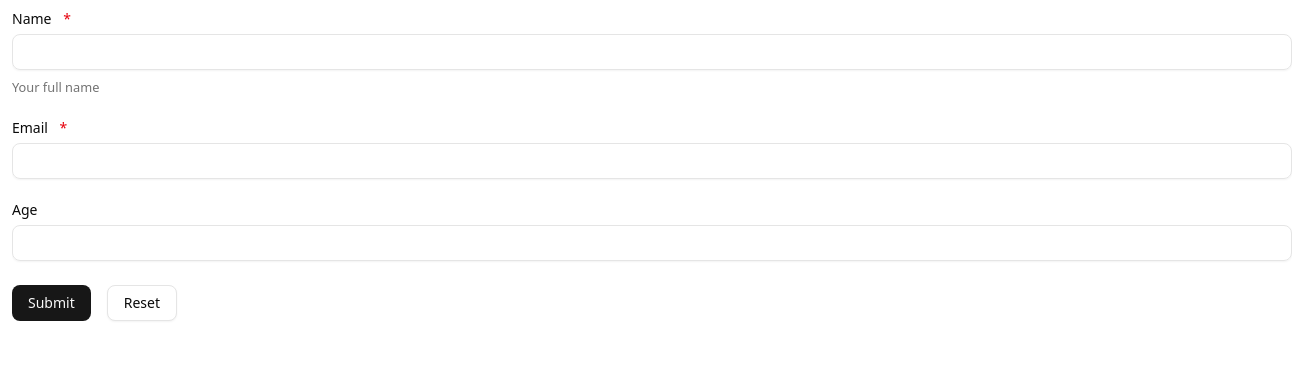
Test case: SchemaForm › Field-Level Validation (onSubmit) › should validate email format on submit
// Fill name (required) and enter clearly invalid email, then submit
Type "John Doe" into the field labelled "Name *" at (652, 52), box [12,34,1292,70]
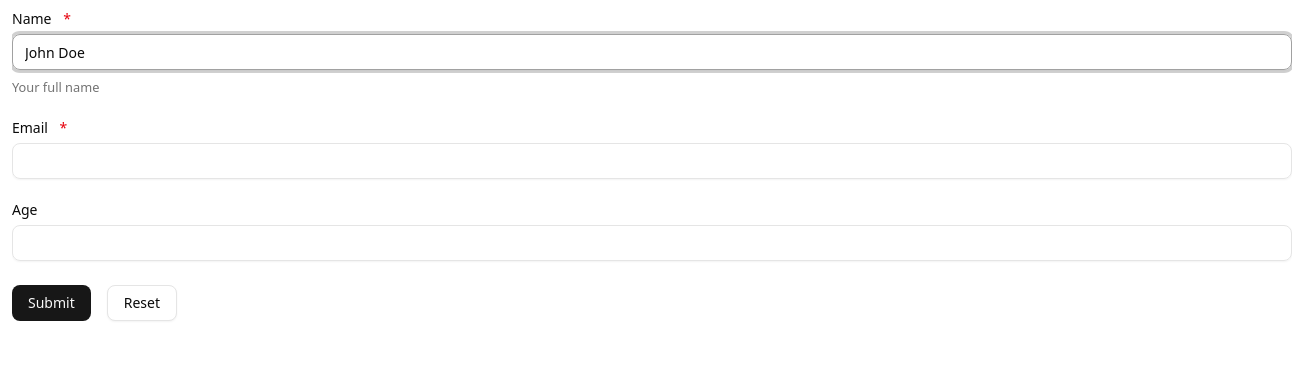
Type "notanemail" into the field labelled "Email *" at (652, 161), box [12,143,1292,179]
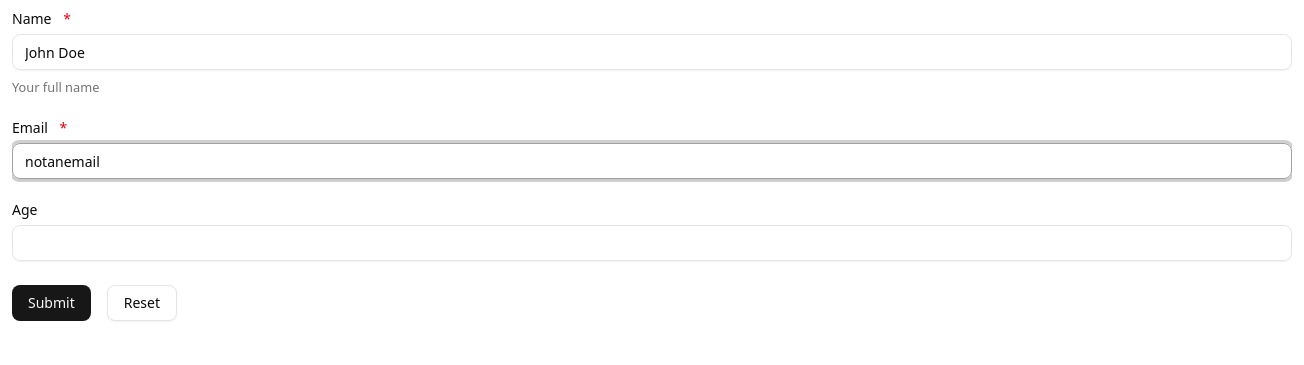
Click the button "Submit" at (51, 303), box [12,285,91,321]
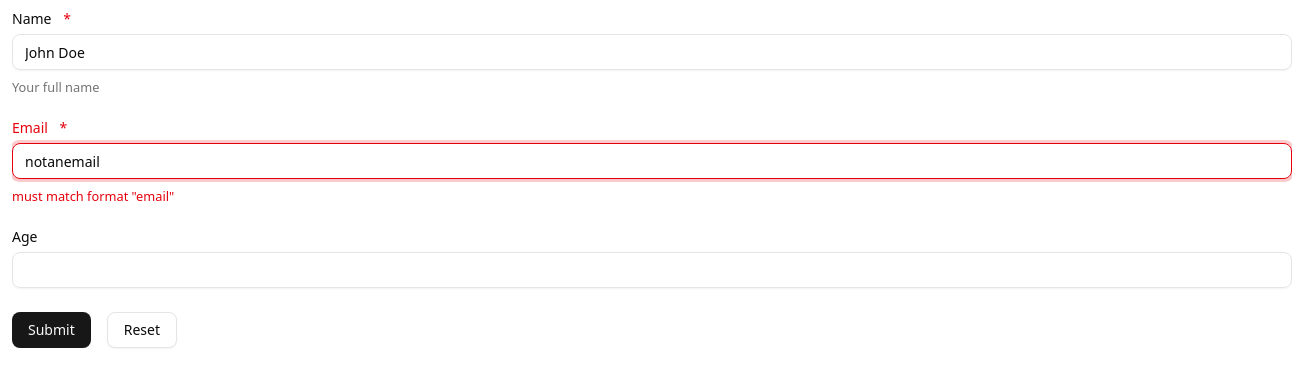
Expected: the text "must match format \"email\"" is shown, [12,187,174,205]
